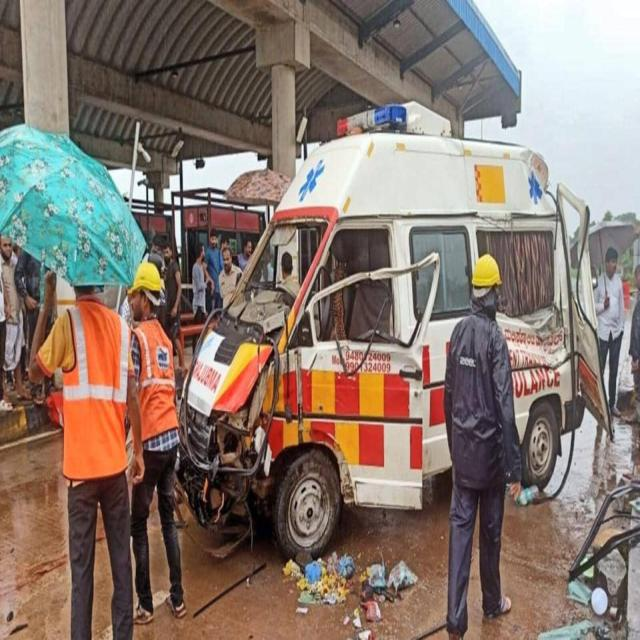accident: (176, 102, 612, 562)
